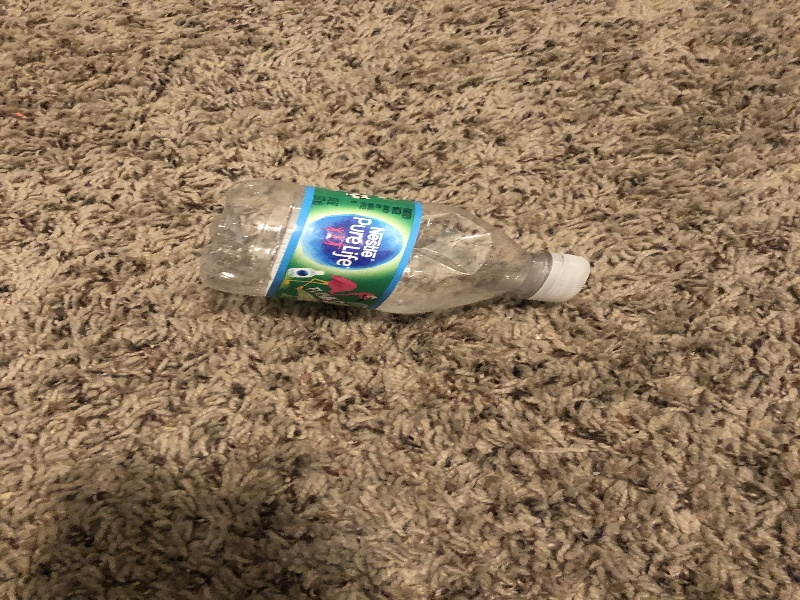plastic: (199, 174, 595, 330)
